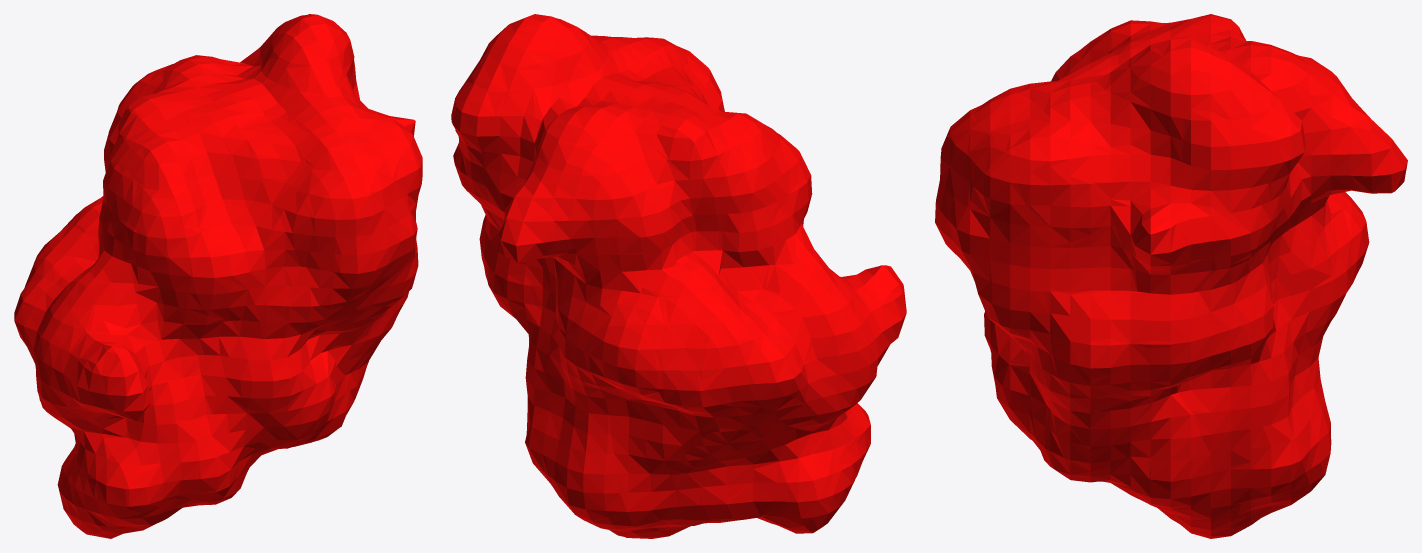
The model's file is iaaA_coarse.dae.
The picture shows the model from 3 angles, left to right: view 1: azimuth 30°, elevation 25°; view 2: azimuth 150°, elevation 25°; view 3: azimuth 270°, elevation 25°; orthographic projection. The views are drawn at different scales.
Parts seen in each view (by area): view 1: iaaA; view 2: iaaA; view 3: iaaA.
Part boxes in pixels (<box>): iaaA: <box>14,14,422,538</box>; iaaA: <box>451,14,906,538</box>; iaaA: <box>935,14,1407,538</box>.
Bounding box in the file's own units: 68.17 × 77.85 × 59.99.
